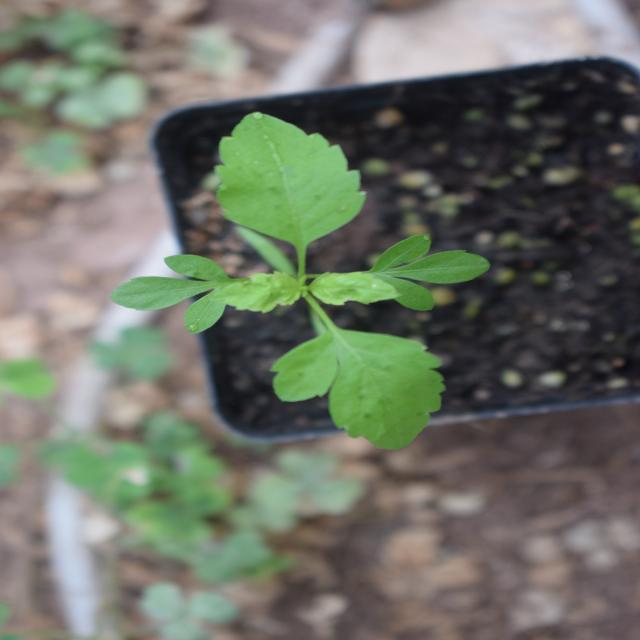Bidens pilosa: (179, 114, 531, 481)
